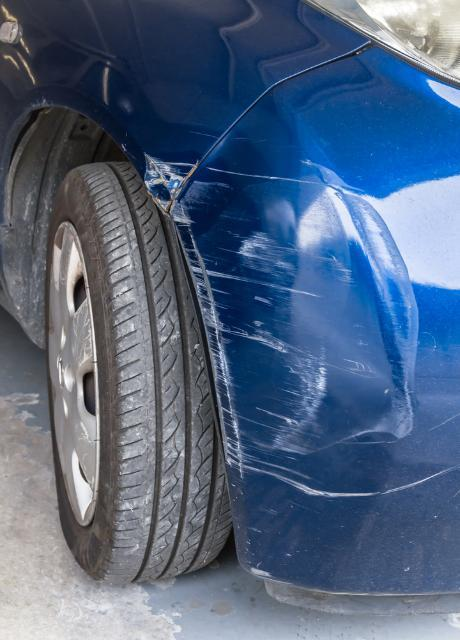dent: (145, 153, 197, 211)
scratch: (172, 158, 460, 502)
